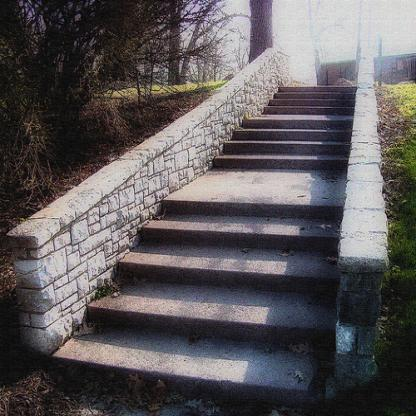stairs: (149, 221, 305, 416)
